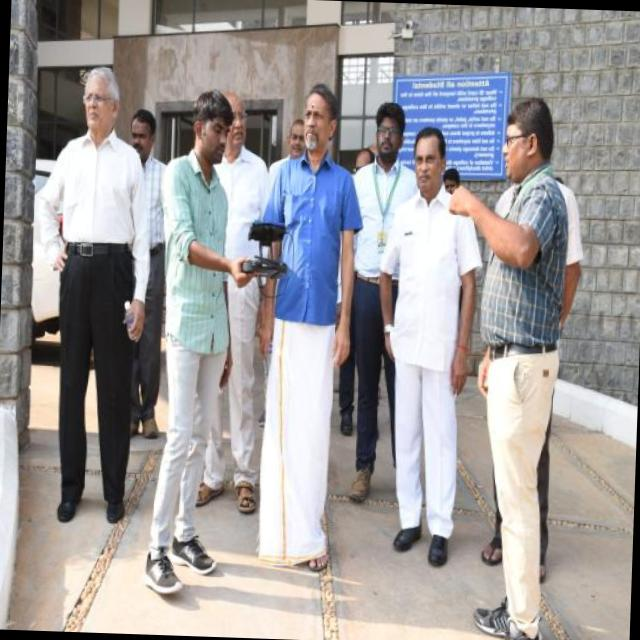id_card: (364, 155, 396, 250)
